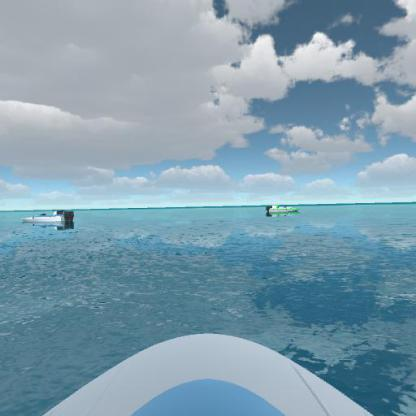usv0: (263, 198, 304, 221)
usv1: (18, 205, 79, 230)
